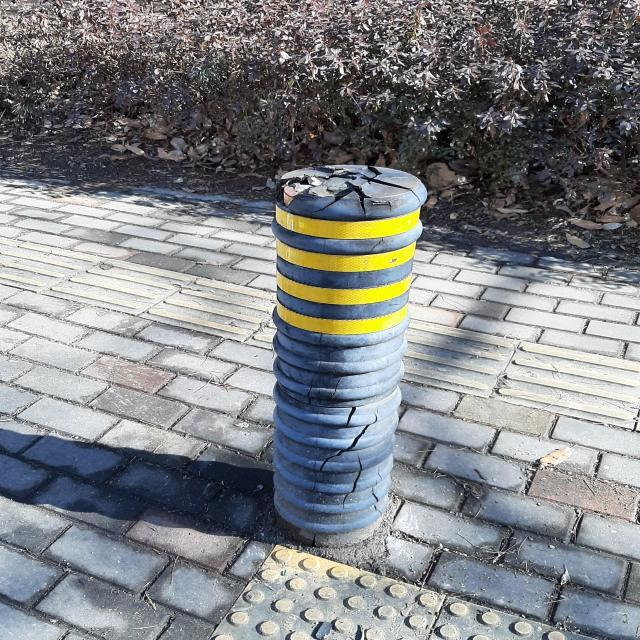pole: (272, 157, 426, 555)
